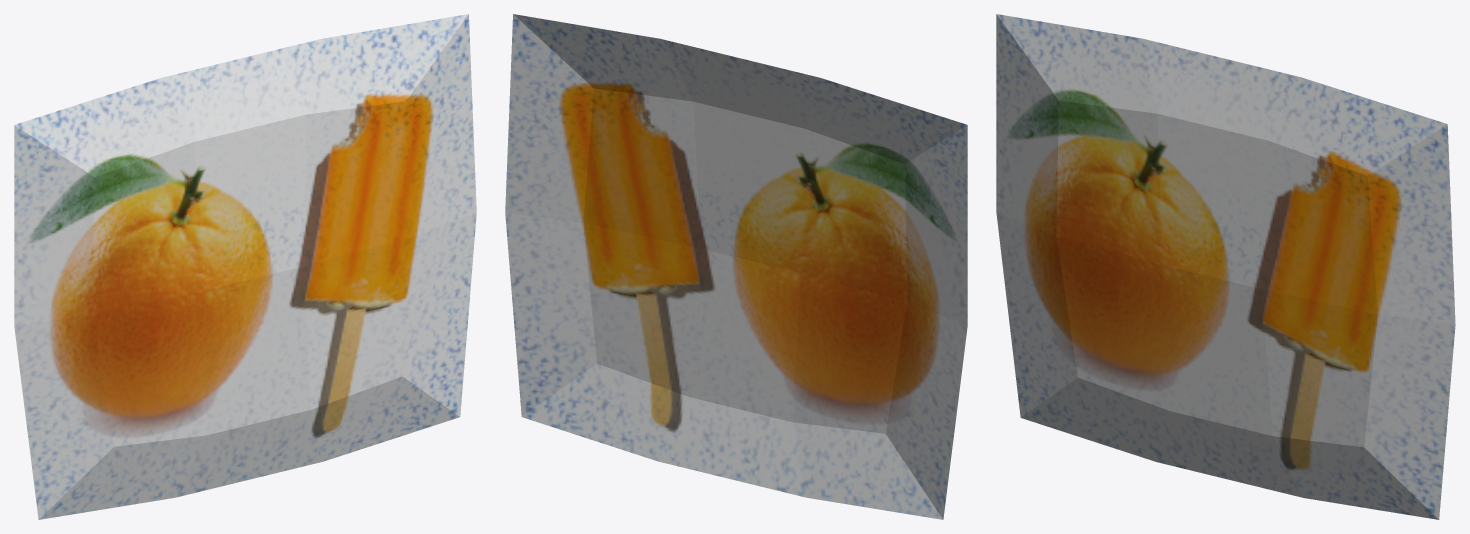
File: TVOrange.glb
The picture shows the model from 3 angles, left to right: view 1: azimuth 30°, elevation 25°; view 2: azimuth 150°, elevation 25°; view 3: azimuth 330°, elevation 25°; orthographic projection.
Visible parts, largest first — view 1: Cube.009; view 2: Cube.009; view 3: Cube.009.
Boxes of the visible parts, box(x1,y1,x2,y2) form: Cube.009: box(14, 14, 476, 519); Cube.009: box(505, 14, 967, 519); Cube.009: box(996, 14, 1455, 519).
Size of the model in its own units: 0.8217 by 0.7185 by 0.0368.
Materials: 1 (1 with a texture image).
